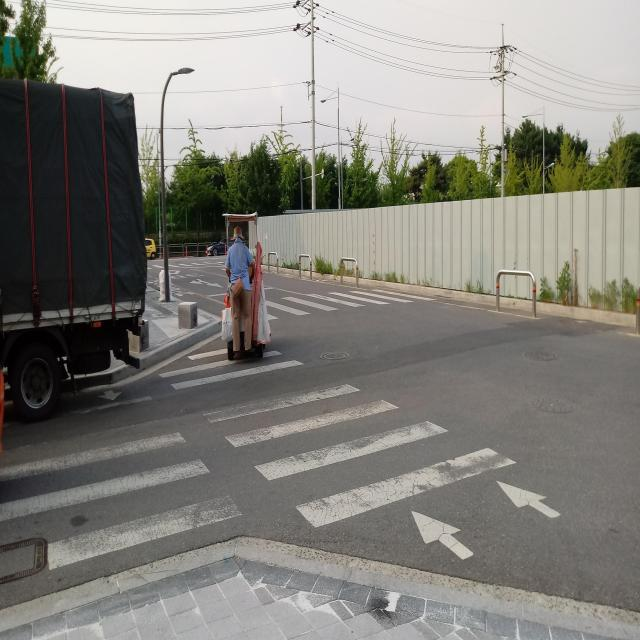횡단보도: (0, 345, 562, 574), (217, 274, 425, 329)
